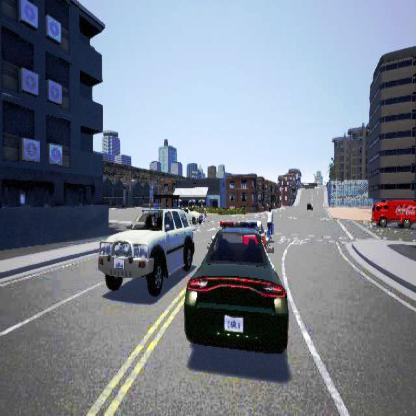bike: (265, 205, 274, 241)
vehicle: (183, 219, 288, 352), (97, 202, 206, 296), (370, 199, 416, 228)
